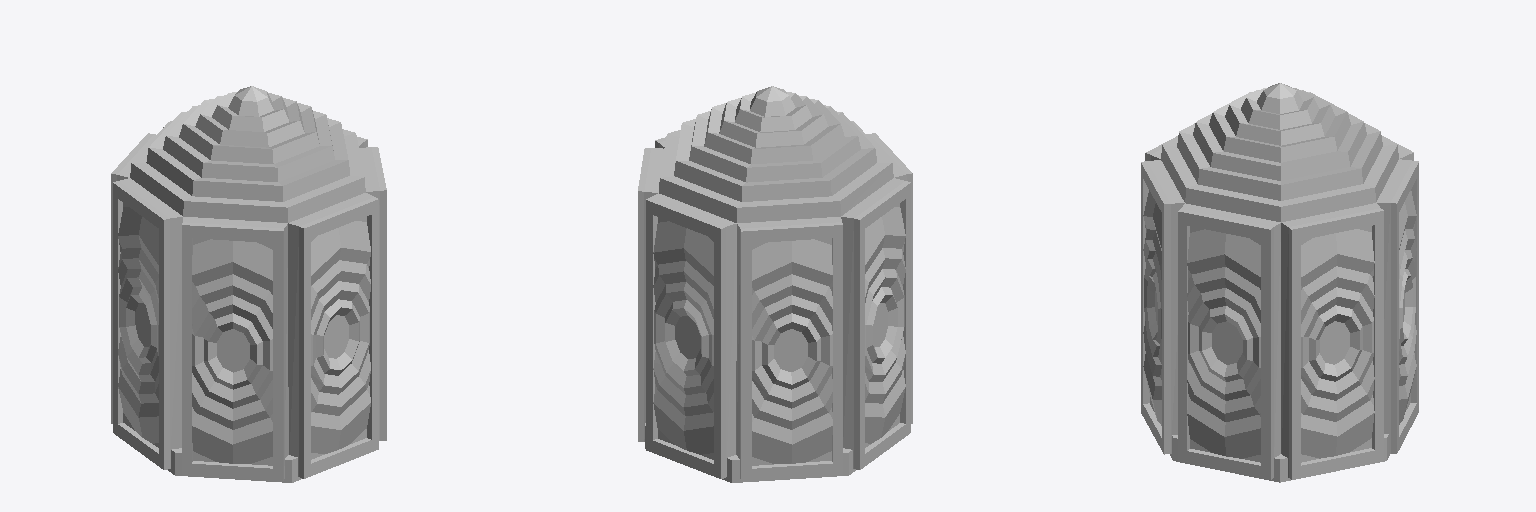
The model's file is glass.obj.
3 views of the same model, side by side, from view 1: azimuth 30°, elevation 25°; view 2: azimuth 150°, elevation 25°; view 3: azimuth 270°, elevation 25° (orthographic).
Parts seen in each view (by area): view 1: glass; view 2: glass; view 3: glass.
Part boxes in pixels (x1,y1,x2,y2): glass: (111,86,386,482); glass: (638,86,912,482); glass: (1141,83,1418,482).
Bounding box in the file's own units: 1.97 × 2.73 × 2.02.